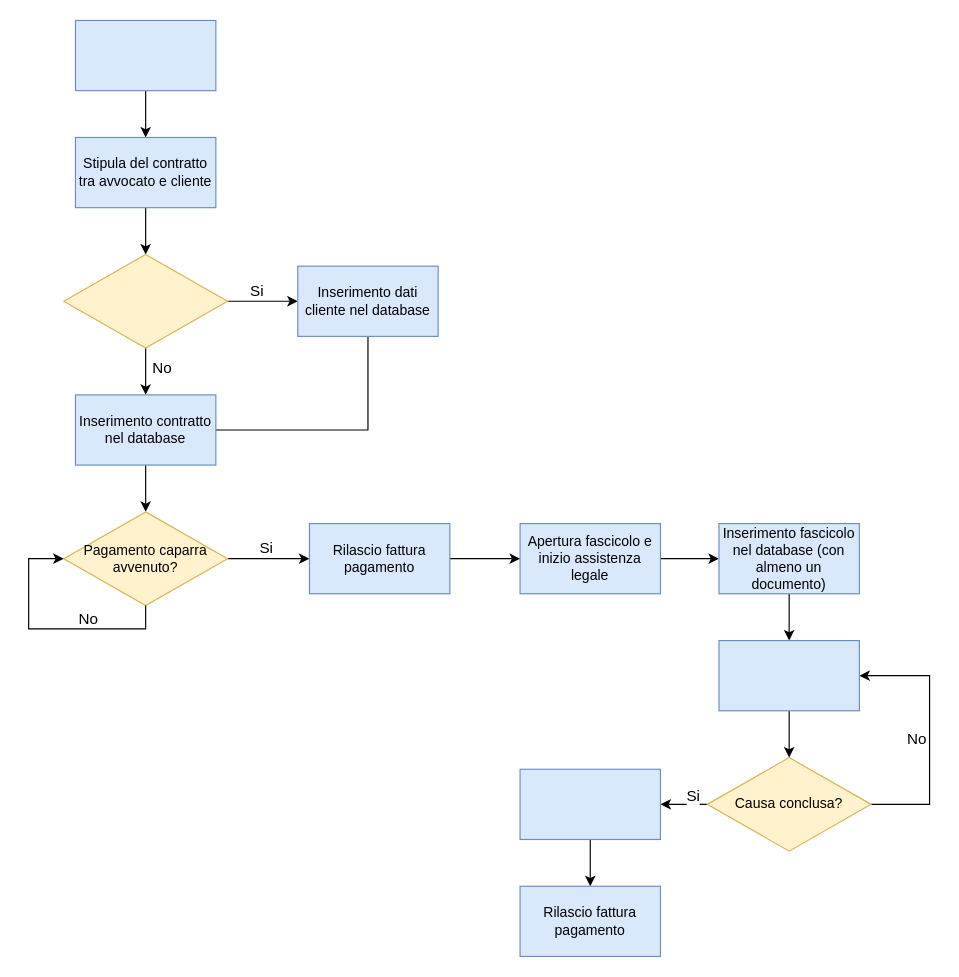
Some shapes in this 959 by 977 pixel diagram are drawn without their labels. The box of each missing label's shape, as (x1, y1, x2, y2) in pixels:
Nuovo cliente?: (63, 253, 228, 348)
Pagamento saldo da parte del cliente: (519, 768, 660, 839)
Proseguimento della causa e aggiunta di altri documenti: (718, 639, 859, 711)
Un cliente si rivolge ad un legale dello studio per assistenza: (74, 19, 216, 91)
